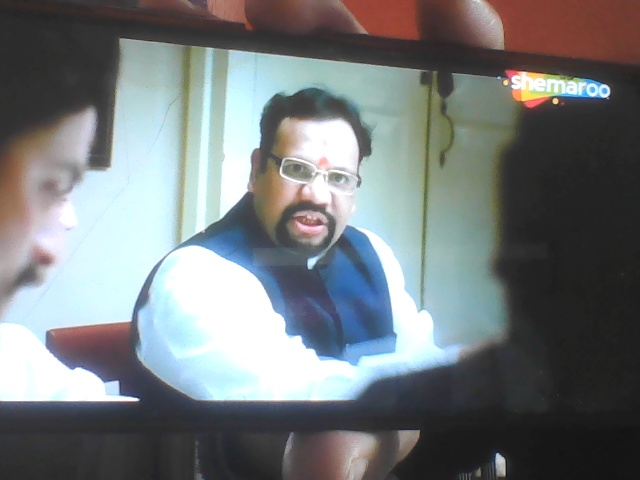fake: (242, 85, 365, 260)
